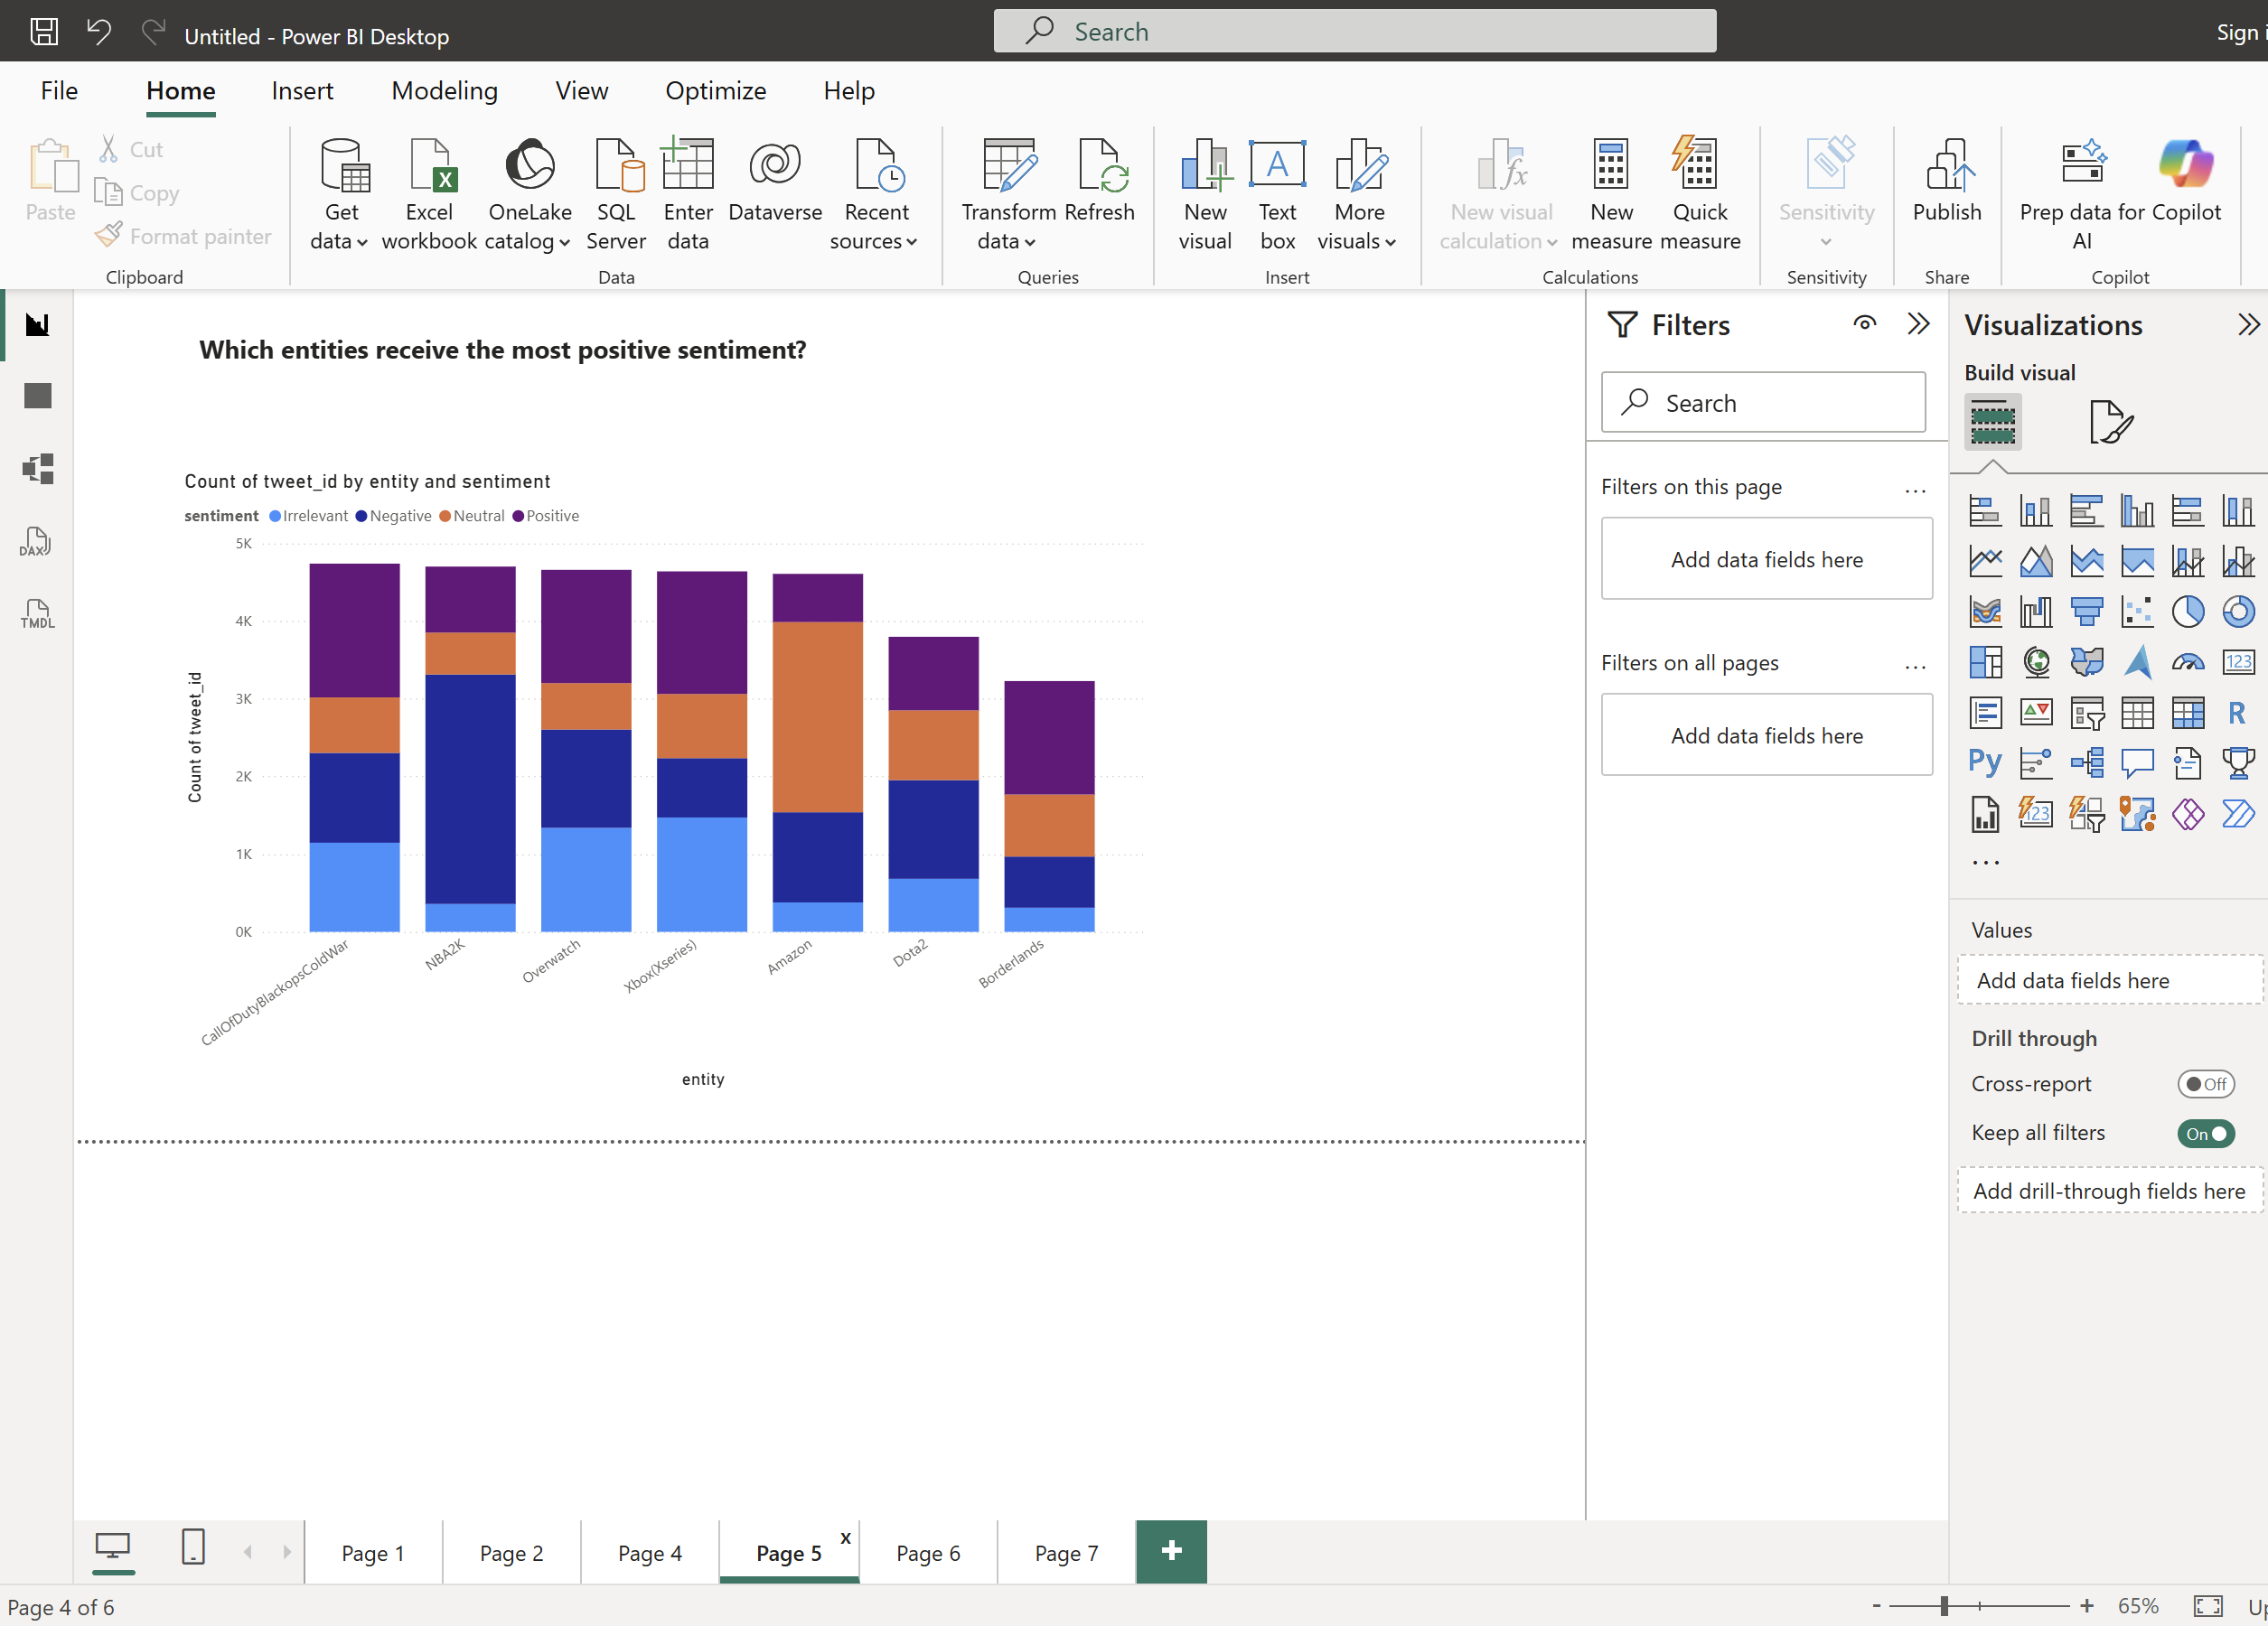

The dashboard page shown, as its layout file describes it:
{"tool":"powerbi","page":{"name":"Page 5","canvas":[1280,720],"ordinal":3},"visuals":[{"type":"columnChart","fields":{"Category":["twitter_sentiment tweets.entity"],"Series":["twitter_sentiment tweets.sentiment"],"Y":["CountNonNull(twitter_sentiment tweets.tweet_id)"]},"box":[88.8,153.1,822.2,528.2],"z":0},{"type":"textbox","box":[101.1,30.6,580.3,82.7],"z":1000}]}

Visuals, with their boxes on the page's 1280x720 design canvas (x1, y1, x2, y2). These are canvas units, not pixel positions in the 2268x1626 screenshot, which may show the page scaled, cropped or inside an application window:
columnChart - twitter_sentiment tweets.entity x twitter_sentiment tweets.sentiment: l=89, t=153, r=911, b=681
textbox: l=101, t=31, r=681, b=113
